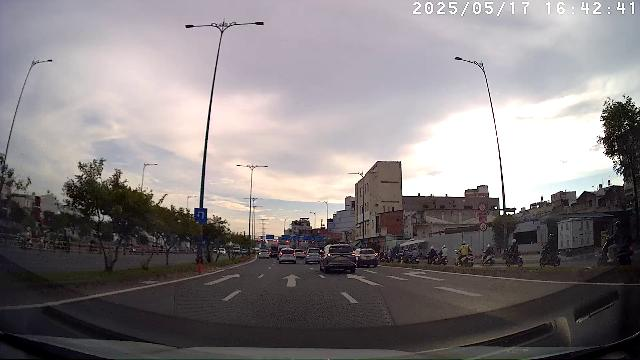127-toc-do-toi-da-50: (479, 222, 487, 231)
